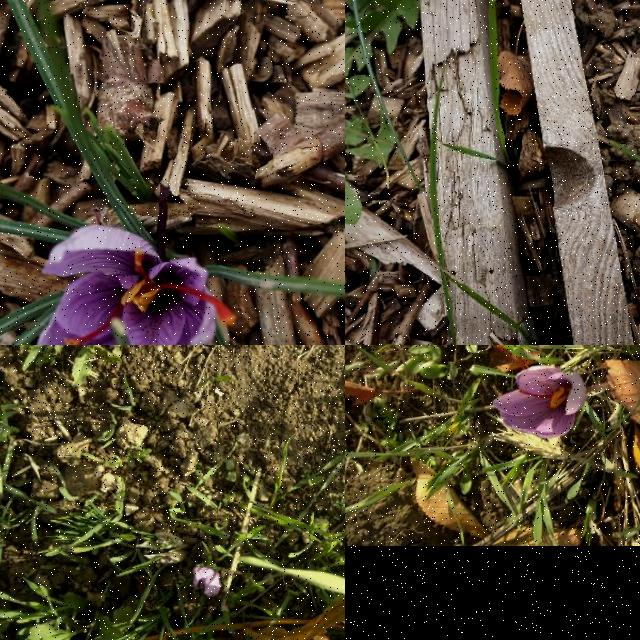flower: (32, 225, 239, 345), (492, 346, 592, 438), (193, 566, 221, 598)
